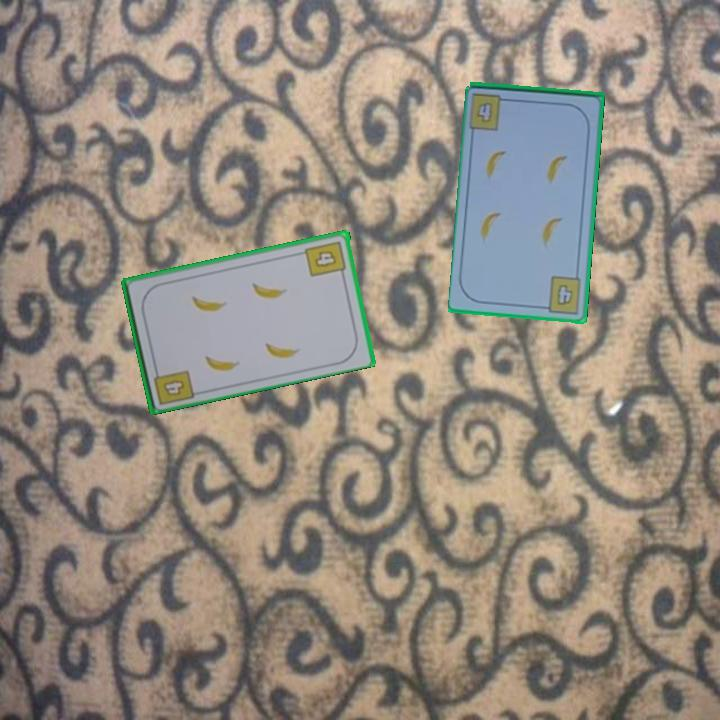4b: (538, 273, 584, 317), (302, 237, 349, 280), (160, 375, 188, 398), (473, 99, 496, 126)
